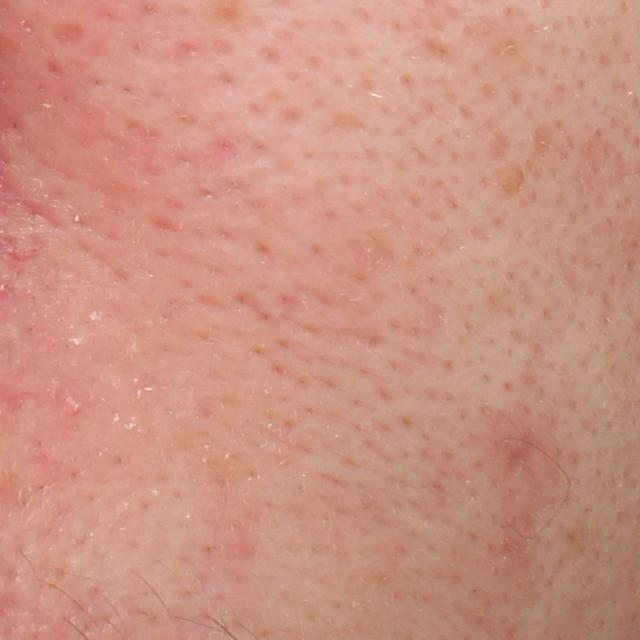atrophic_scar: (502, 433, 544, 483), (485, 126, 516, 164), (497, 161, 527, 196)
